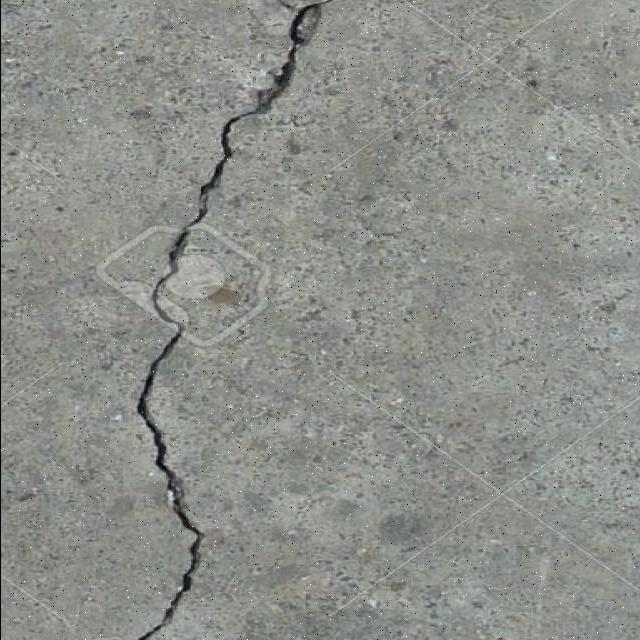crack: (250, 0, 637, 624), (127, 0, 327, 637), (192, 5, 327, 229), (125, 317, 208, 640), (181, 124, 254, 251), (136, 322, 183, 469)
